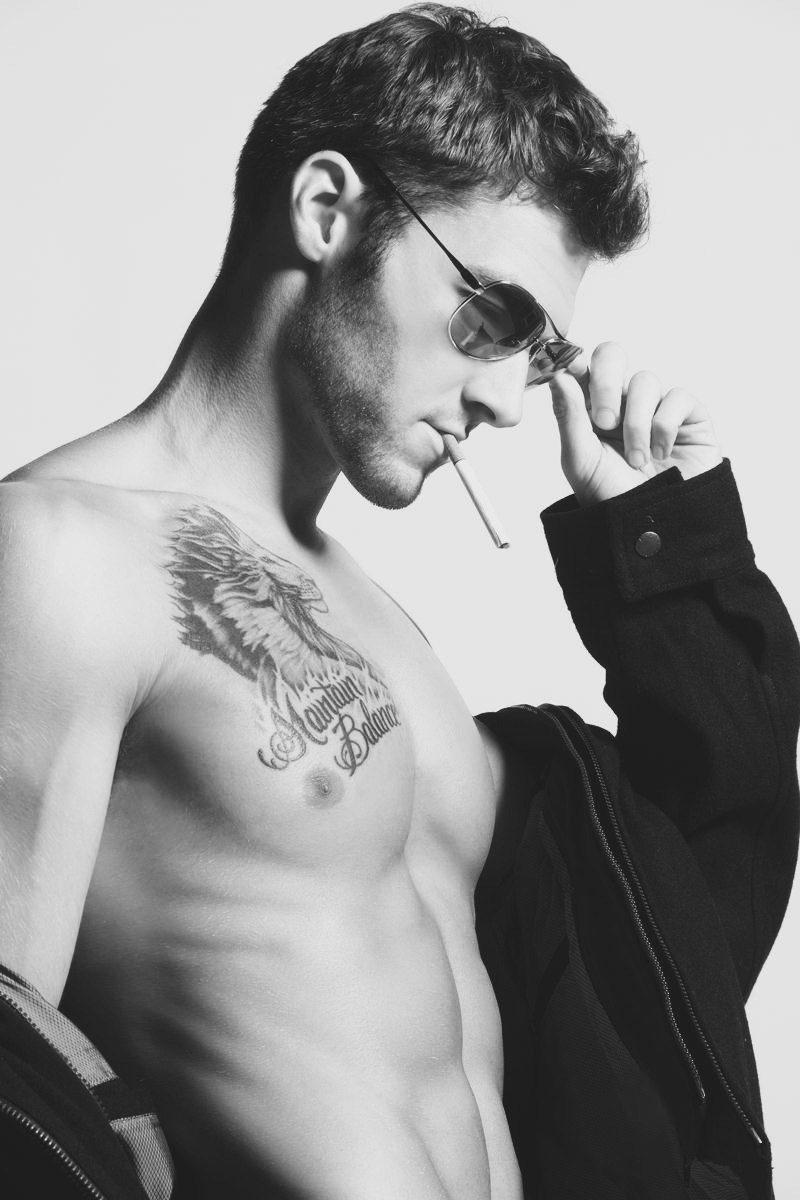cigarette: (444, 434, 509, 548)
